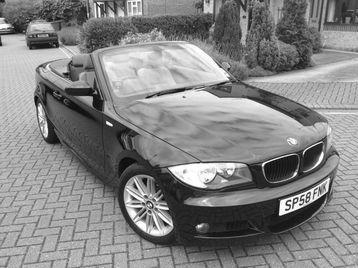car: (34, 39, 343, 246)
